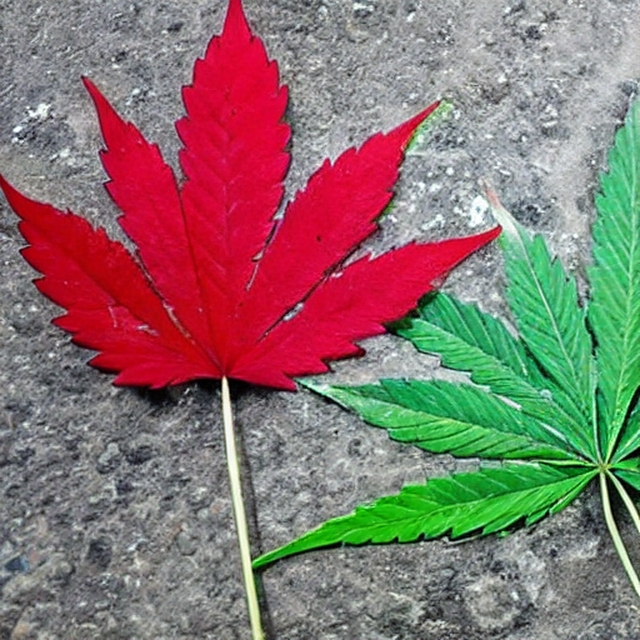Marijuana Leaf: (0, 0, 504, 639), (250, 74, 640, 632)
